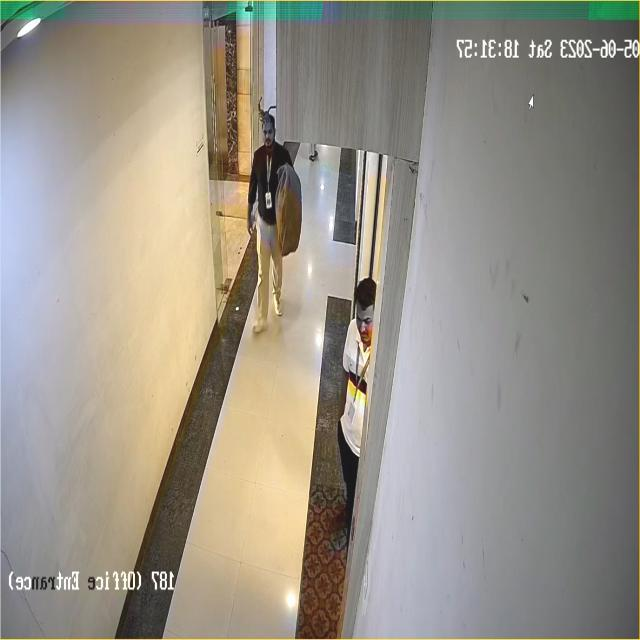gunny_bag: (272, 165, 304, 258)
